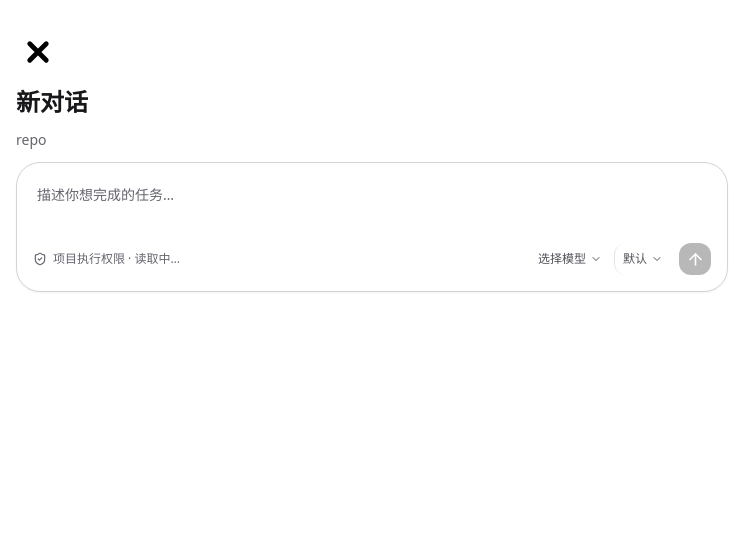
Test case: InputBar › shows a backend failure only once and preserves cancellation status
Step 1. Type "create page" into the text box → (372, 207), box [33, 179, 711, 235]
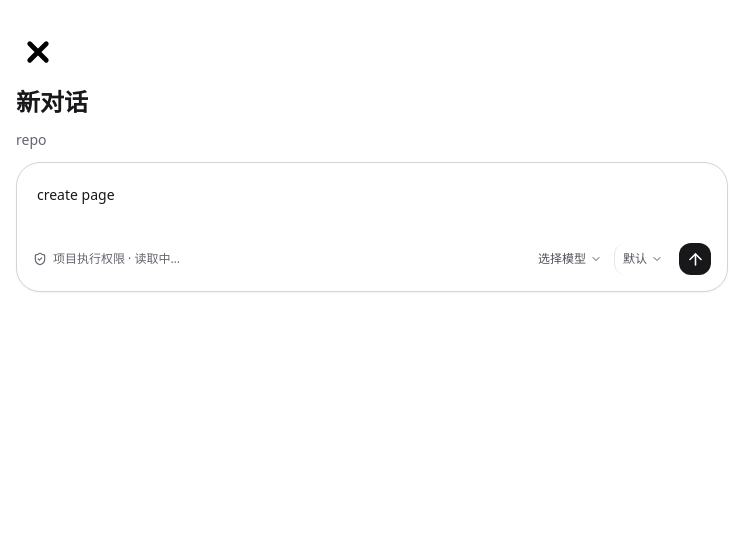
Step 2. Click the button named "发送" → (695, 259), box [679, 243, 711, 275]
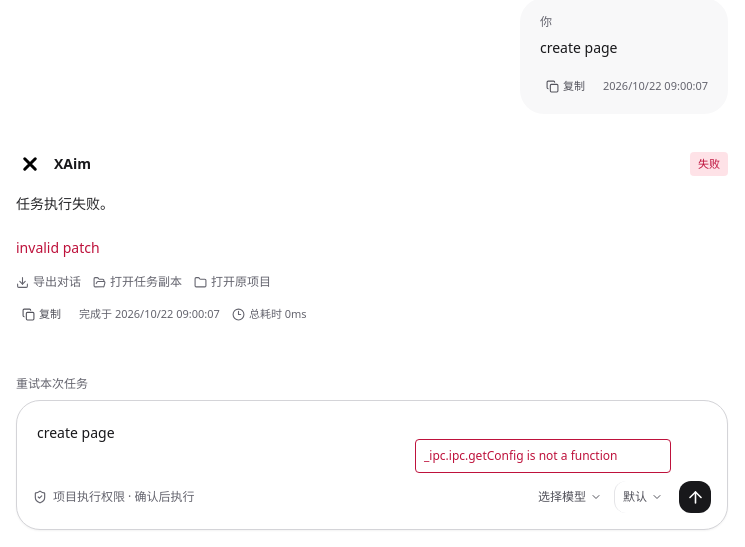
Expected: the button named "发送" is enabled
Expected: the text "invalid patch" is shown once, [16, 238, 100, 257]
Step 3. Click the button named "发送" → (695, 497), box [679, 481, 711, 513]
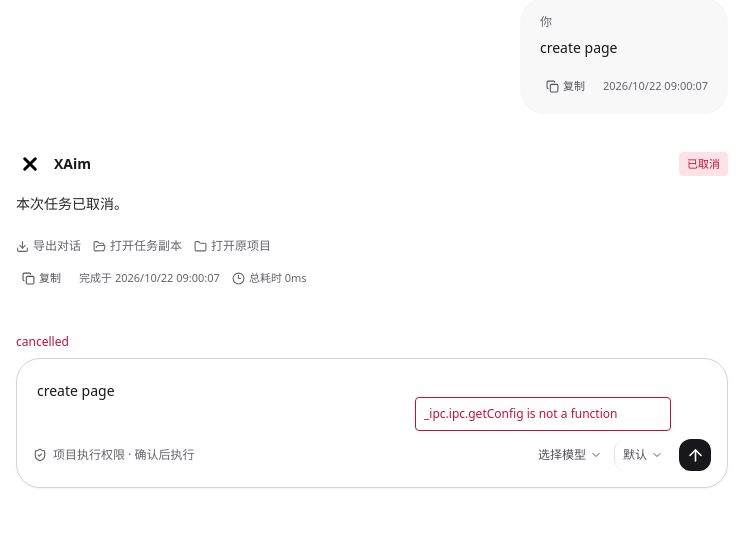
Expected: the button named "发送" is enabled, [679, 439, 711, 471]
Expected: the text "cancelled" is shown, [16, 333, 69, 350]
